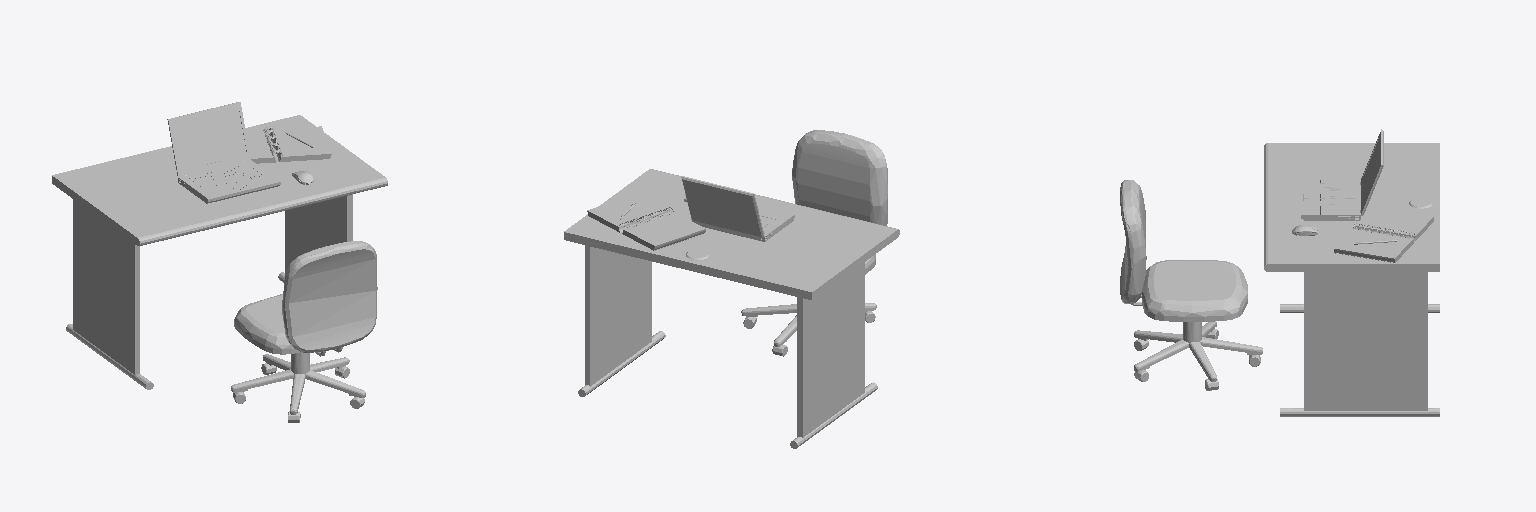
Rendered from Student Desk - Laptop.obj.
3 views of the same model, side by side, from view 1: azimuth 30°, elevation 25°; view 2: azimuth 150°, elevation 25°; view 3: azimuth 270°, elevation 25° (orthographic).
Parts seen in each view (by area): view 1: Solid1, Solid1_5, Solid1_1, Solid1_3; view 2: Solid1, Solid1_5, Solid1_1, Solid1_3; view 3: Solid1, Solid1_5, Solid1_1, Solid1_3.
Part boxes in pixels (x1,y1,x2,y2): Solid1: (52,115,387,389); Solid1_5: (231,241,377,422); Solid1_1: (167,102,280,203); Solid1_3: (246,126,331,163); Solid1: (564,169,899,448); Solid1_5: (741,130,887,356); Solid1_1: (681,176,794,241); Solid1_3: (587,193,705,250); Solid1: (1264,143,1439,416); Solid1_5: (1120,180,1262,390); Solid1_1: (1301,129,1383,220); Solid1_3: (1334,206,1433,262).
Bounding box in the file's own units: 1.22 × 1.02 × 1.36.